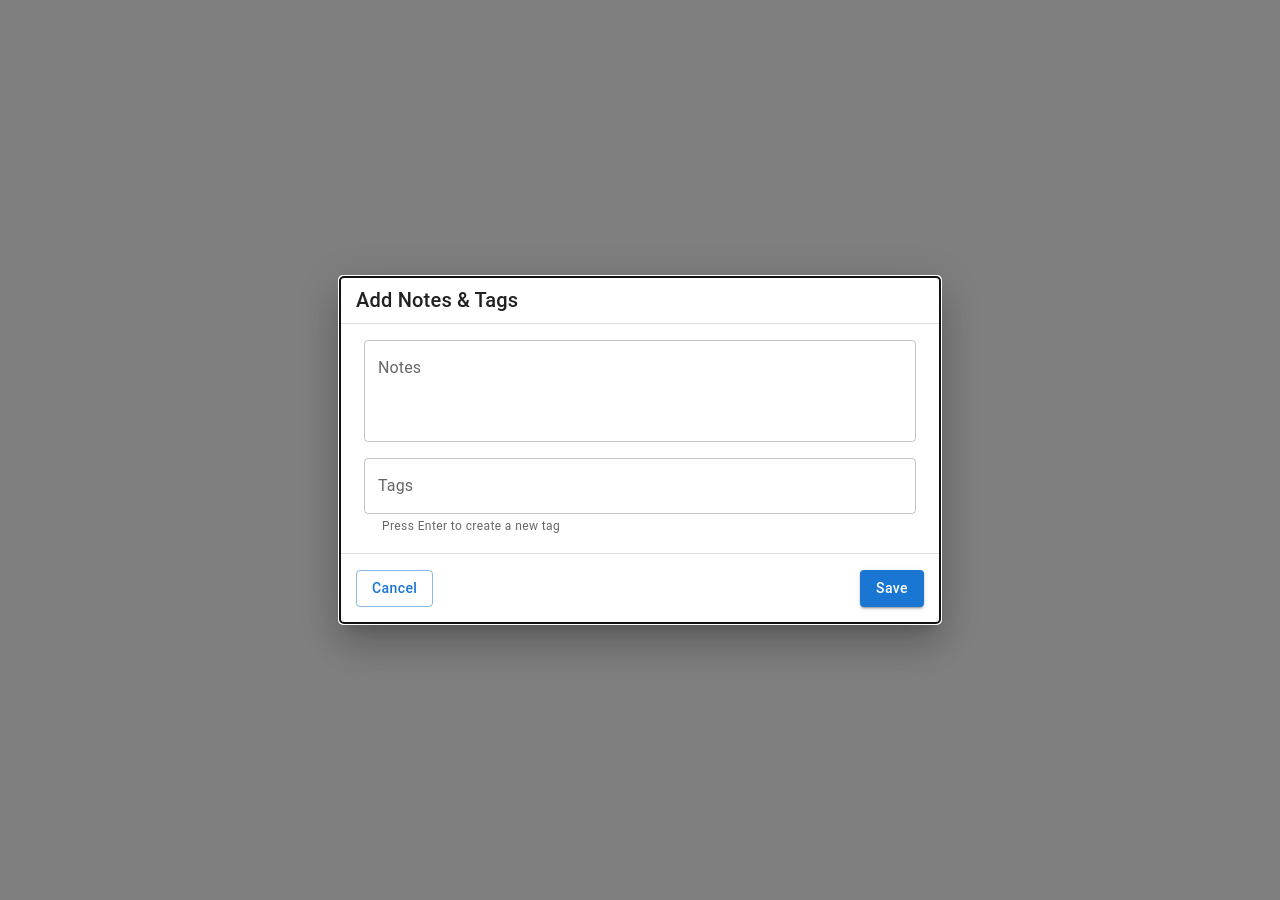
Test: AddFavouriteBook Dialog › shows validation error if both notes and tags are empty
Click the button "Save".
click(892, 588)  # box [860,570,924,607]
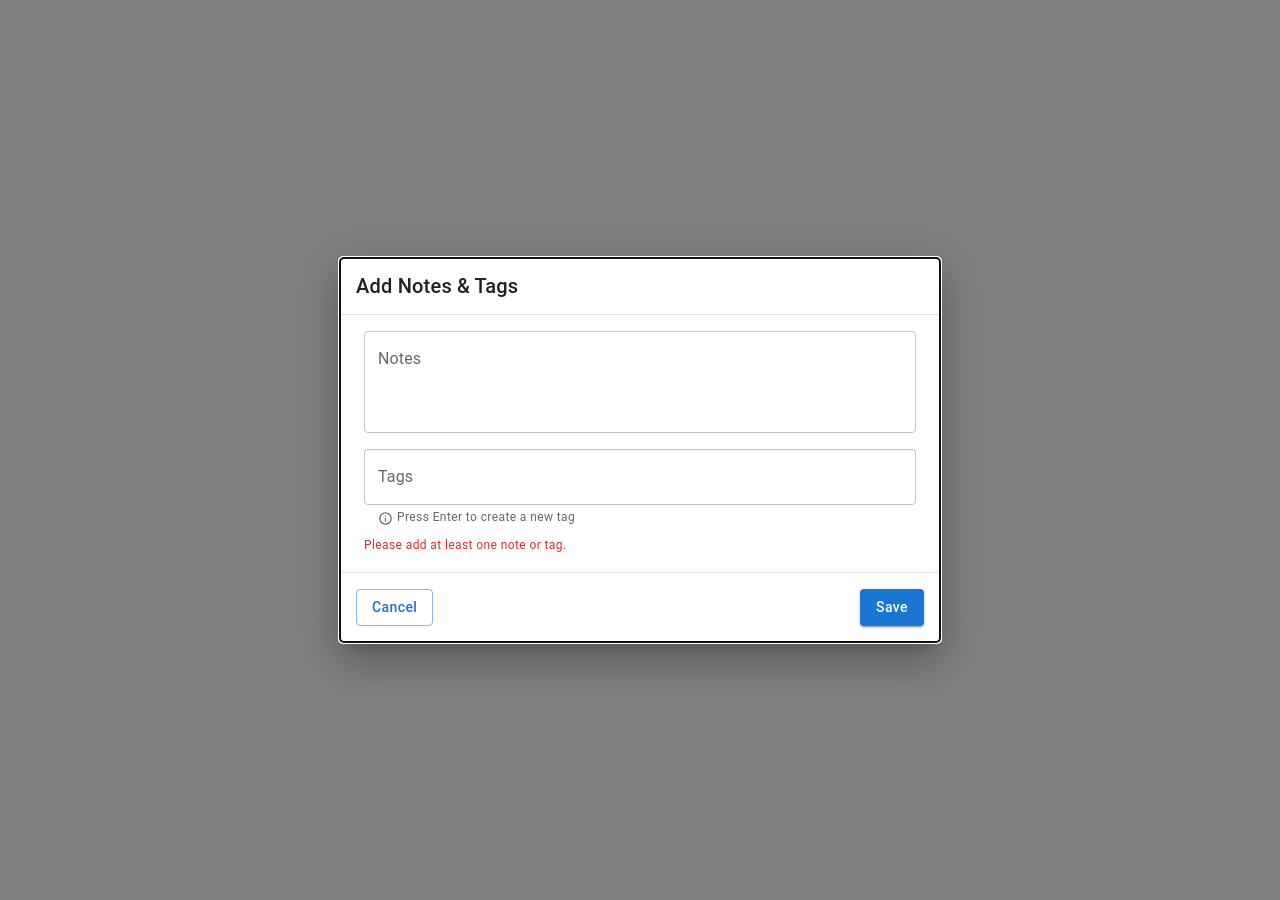
Check: the text "Please add at least one note or tag." is shown, box [364,538,566,552]
